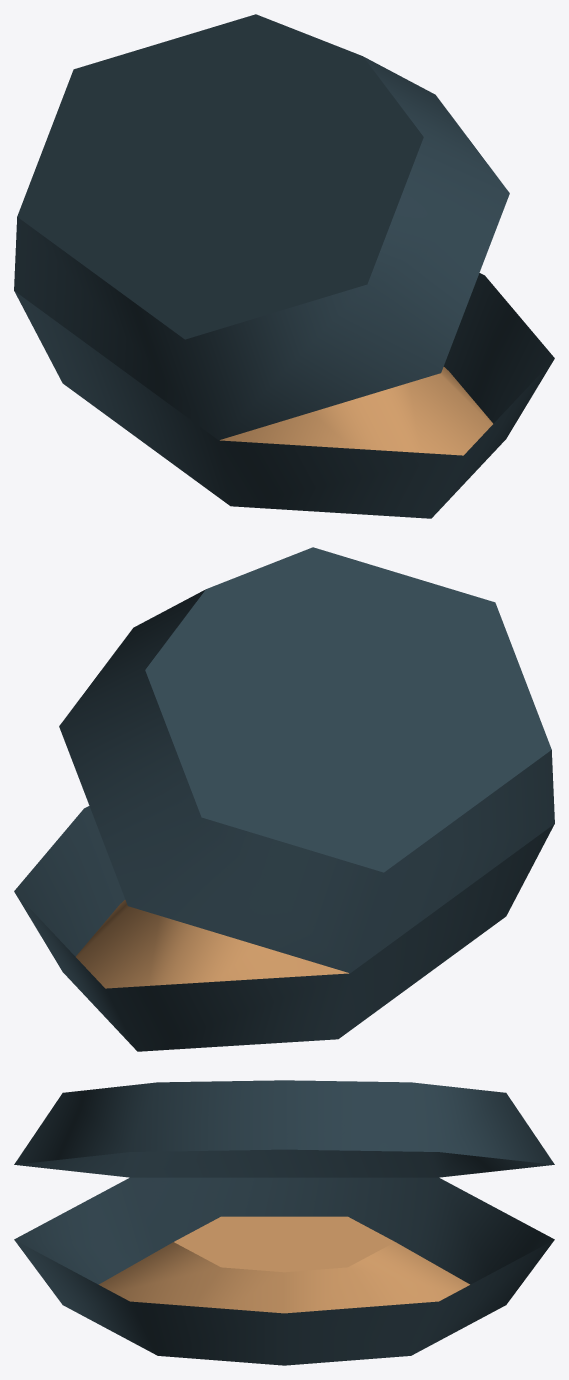
Rendered from mussel-open.glb.
3 views of the same model, one above another, from view 1: azimuth 30°, elevation 25°; view 2: azimuth 150°, elevation 25°; view 3: azimuth 270°, elevation 25° (orthographic). The views are drawn at different scales.
Visible parts, largest first — view 1: mussel-open; view 2: mussel-open; view 3: mussel-open.
Part boxes in pixels (bbox=[...]): mussel-open: bbox=[14, 14, 554, 518]; mussel-open: bbox=[14, 547, 554, 1051]; mussel-open: bbox=[14, 1080, 554, 1365].
Size of the model in its own units: 0.0961 by 0.0804 by 0.1554.
